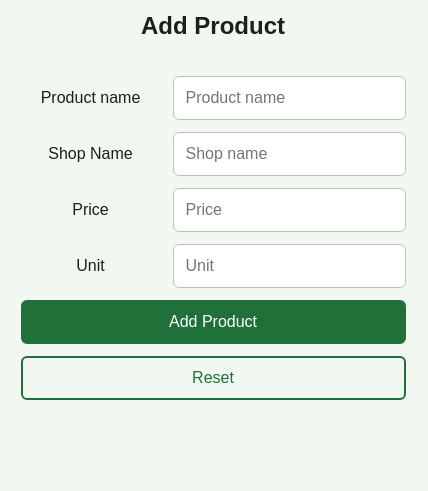
AddProductForm › validates required fields
The width and height of the screenshot is (428, 491).
Click the button "Add Product". click: (213,322)
box: [20,300,406,344]
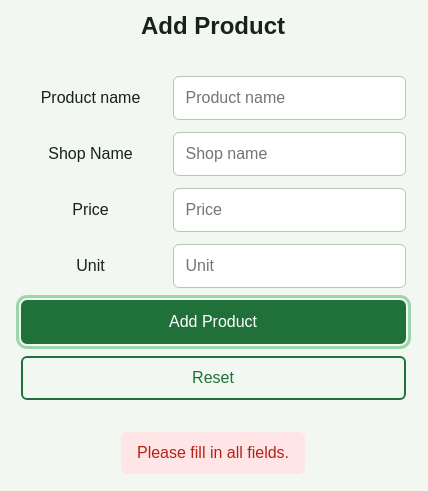
Now the text "Please fill in all fields." is shown, box [121,432,305,474]
